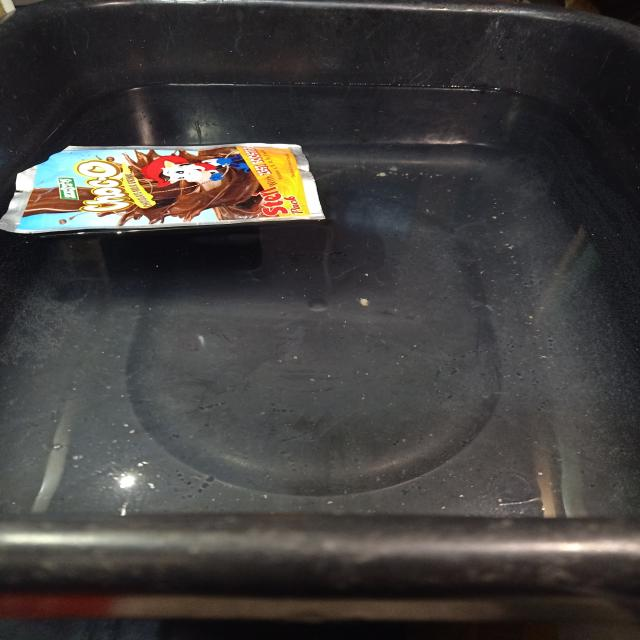Plastic Pouch: (0, 143, 324, 233)
